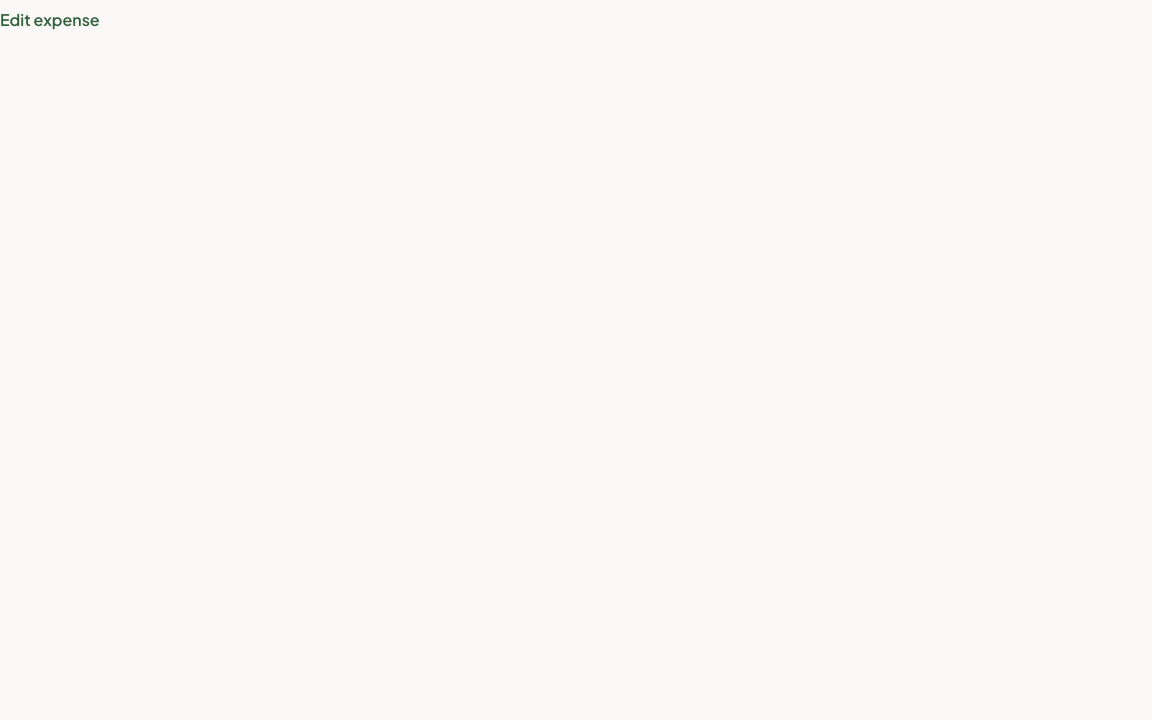
Scenario: Financial metadata editing › retains financial editor when the backend rejects an update
Click the button "Edit expense" at {"x": 50, "y": 20}, box 0,8 -> 100,32
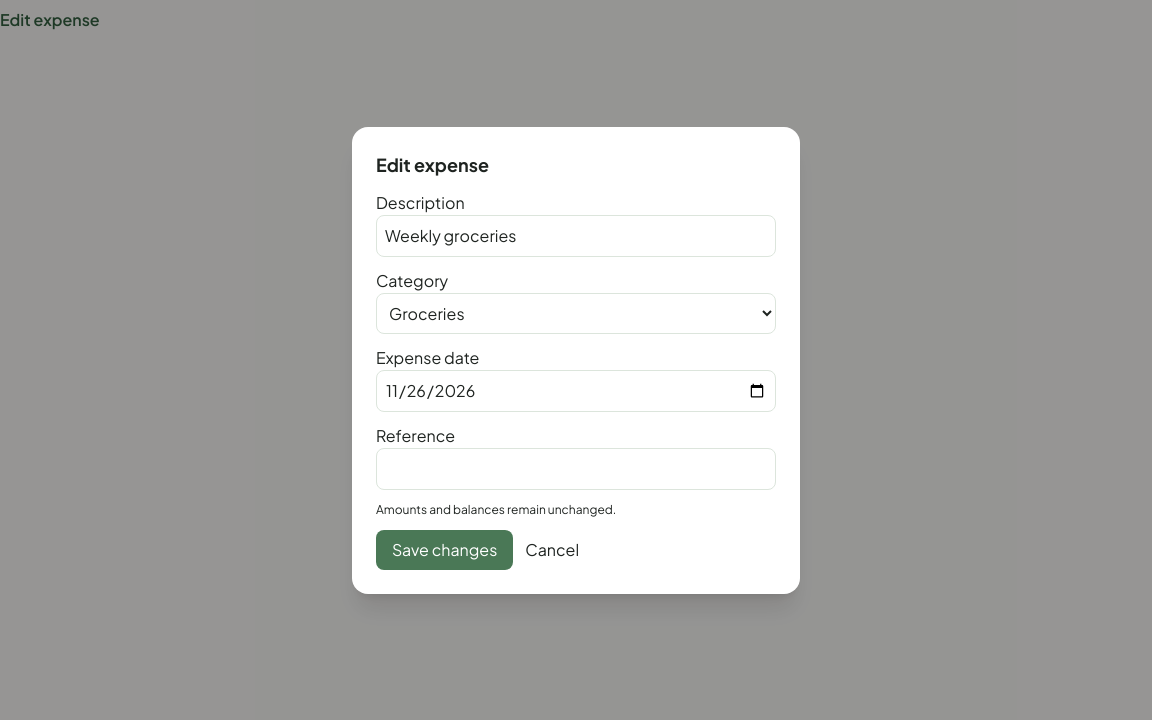
Click the button "Save changes" at {"x": 445, "y": 550}, box 376,530 -> 513,570
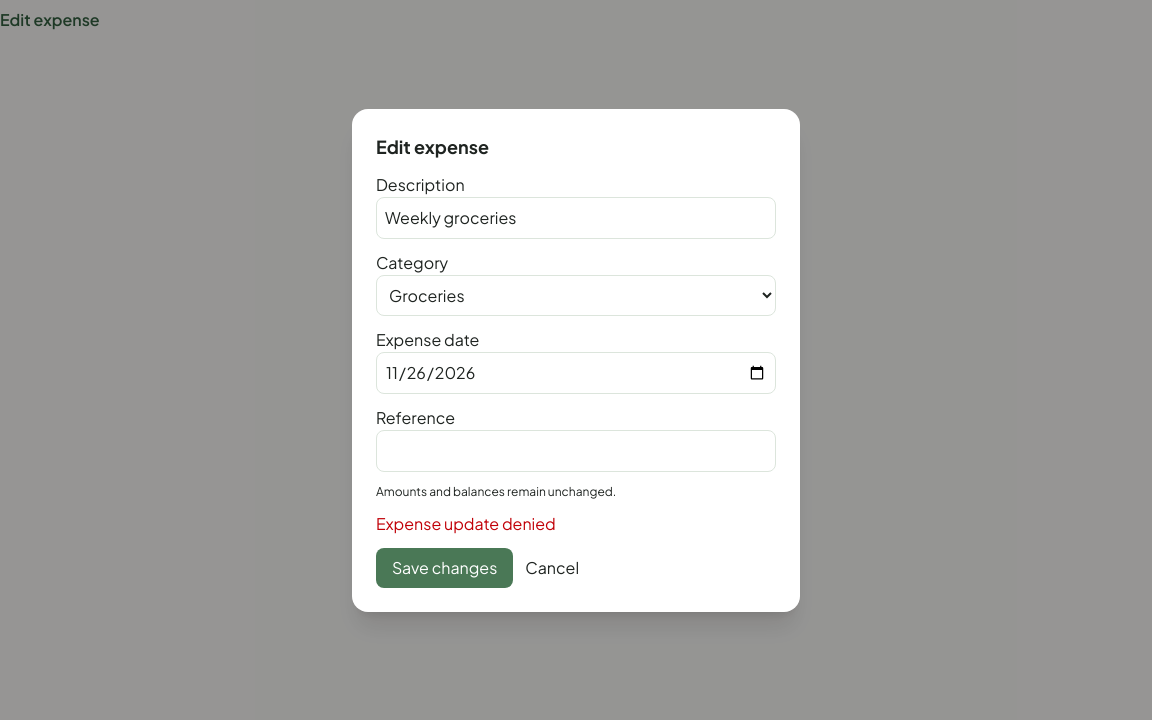
Expected: the dialog is shown, 352,108 -> 800,612
Expected: the message reads "Expense update denied", 376,512 -> 556,534
